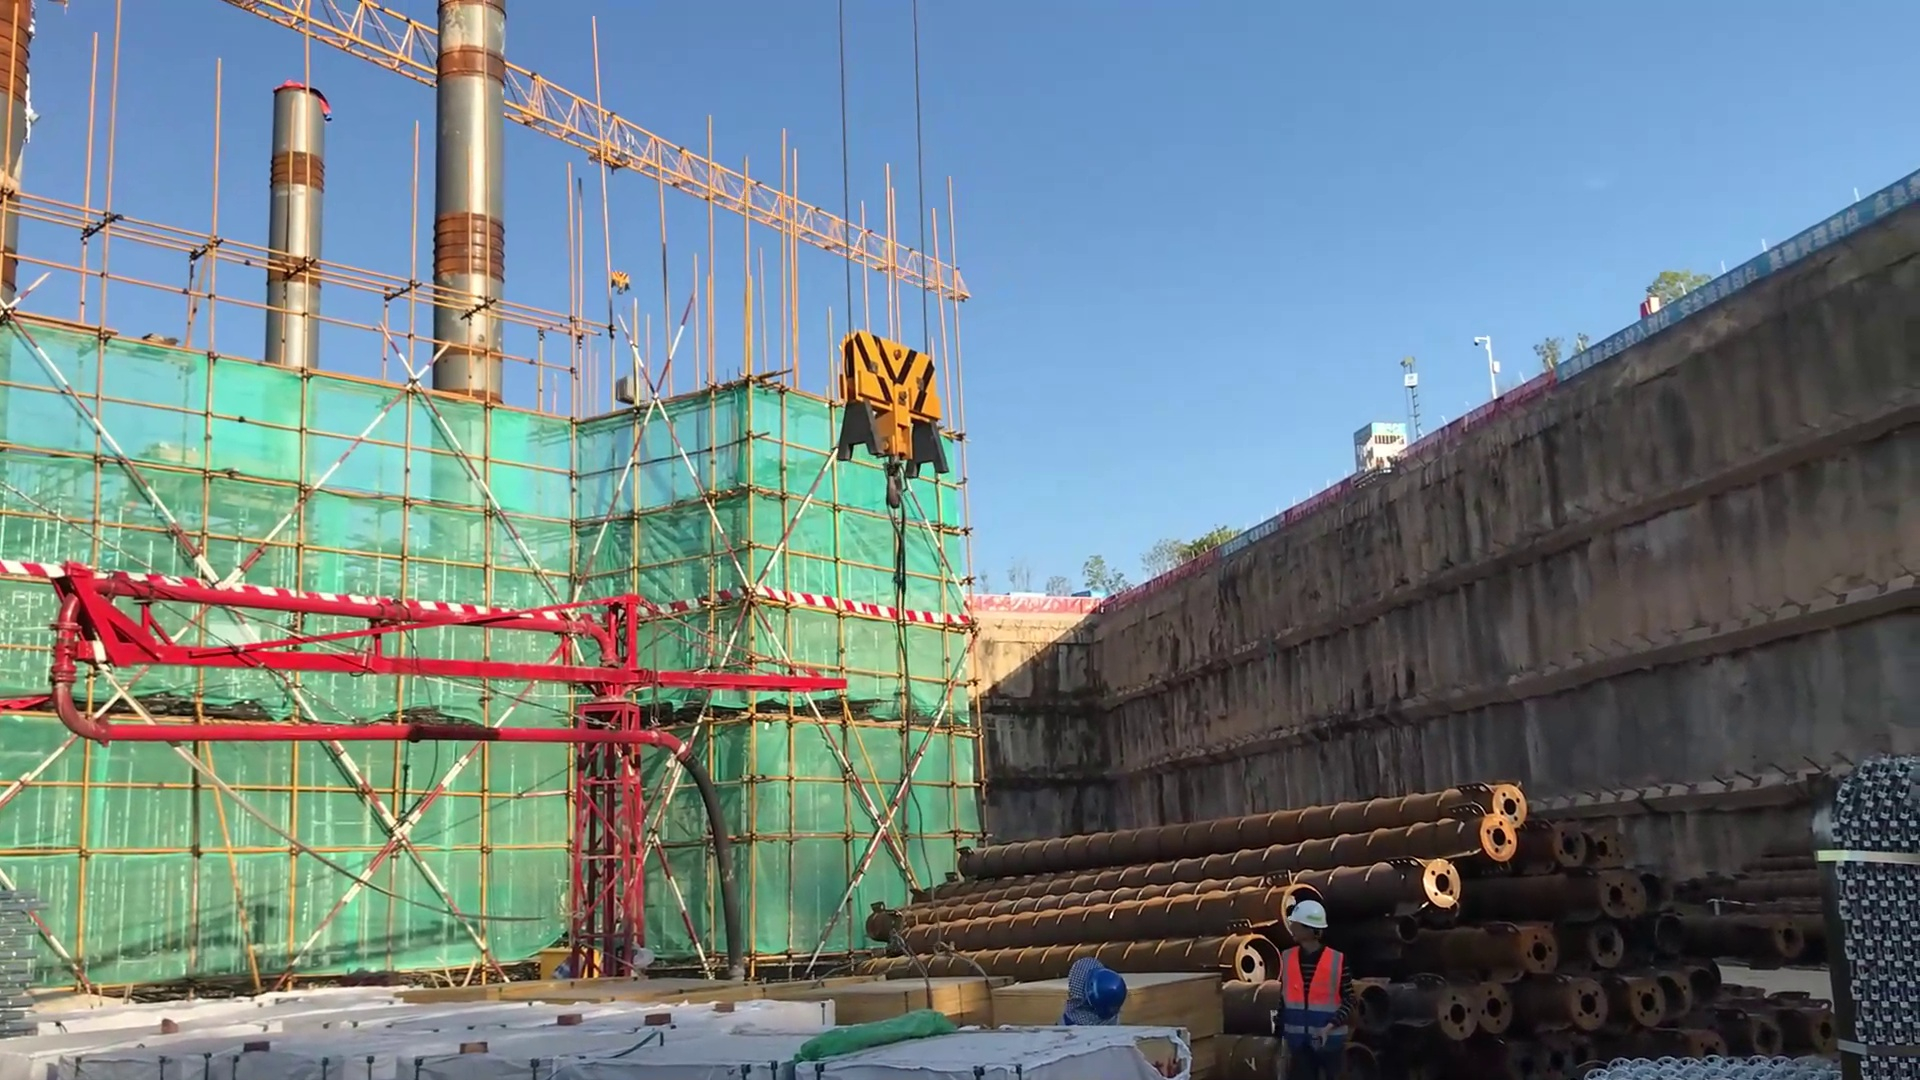board: (989, 969, 1221, 1047), (760, 965, 1023, 1030)
ebox: (537, 942, 601, 981)
helmet: (1078, 954, 1129, 1020), (1275, 894, 1337, 948)
hook: (840, 314, 963, 520), (602, 264, 634, 303)
person: (1271, 897, 1345, 1080)
scaffold: (1815, 730, 1920, 1074)
slogan: (1543, 153, 1920, 384), (1215, 513, 1290, 569)
vest: (1275, 947, 1349, 1055)
